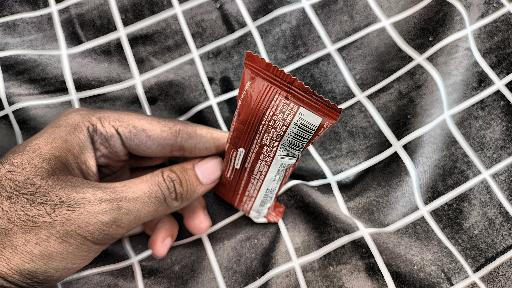top: (207, 50, 347, 225)
